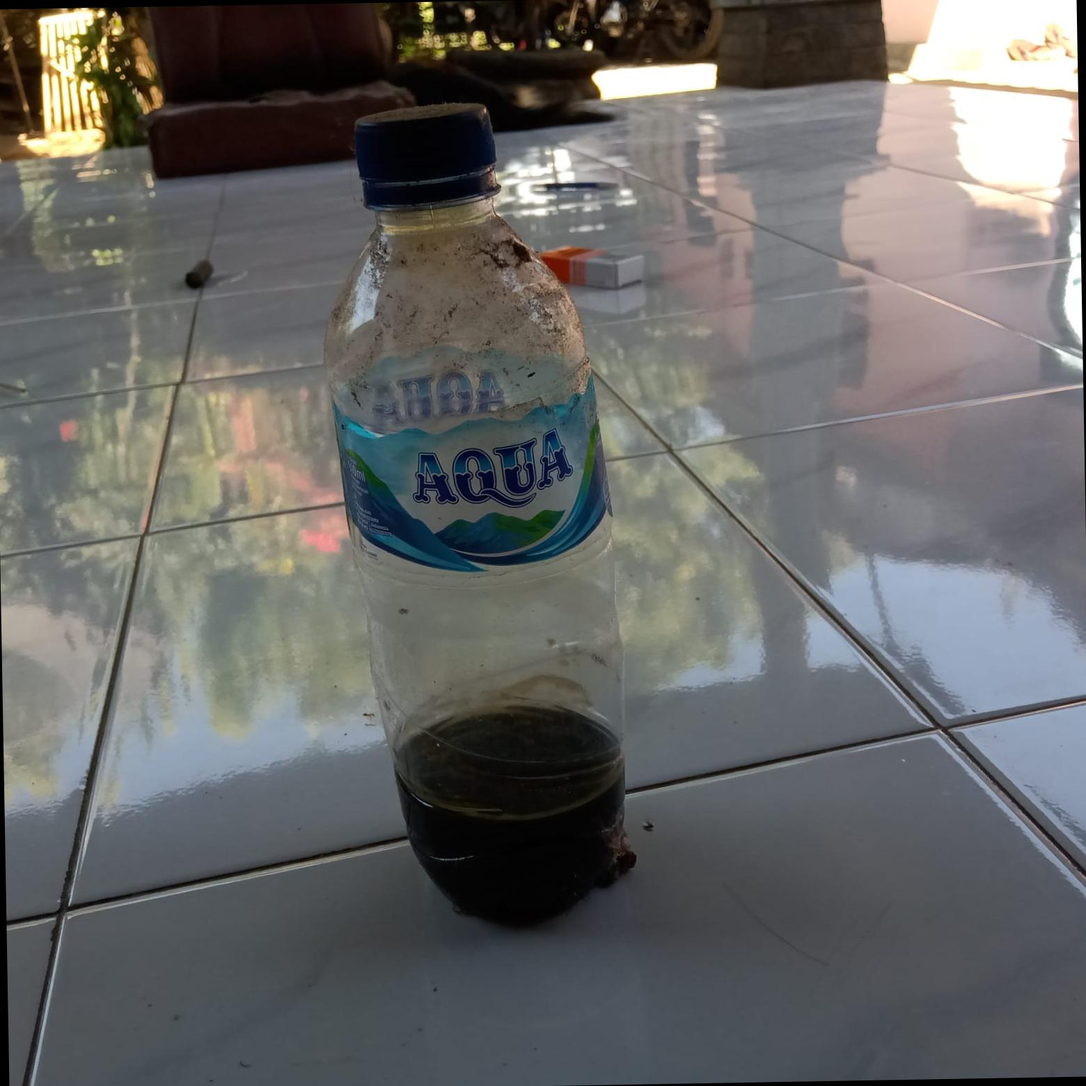Plastik: (320, 101, 641, 919)
